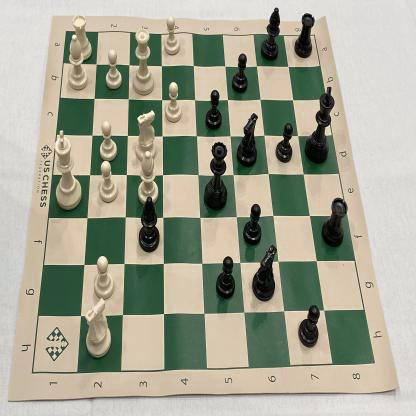black-bishop: (136, 194, 163, 254), (259, 4, 283, 66)
black-king: (302, 82, 336, 166)
black-knight: (250, 240, 278, 307), (235, 109, 260, 172)
black-pawn: (296, 300, 322, 350), (240, 199, 264, 247), (213, 255, 236, 301), (274, 121, 294, 166), (203, 88, 223, 131), (230, 48, 248, 94)
black-queen: (202, 138, 229, 214)
black-rook: (320, 192, 349, 254), (292, 9, 316, 63)
white-bishop: (134, 148, 160, 205), (66, 35, 90, 94)
white-king: (51, 128, 84, 212)
white-knight: (82, 297, 116, 361), (132, 108, 158, 161)
white-pawn: (92, 254, 116, 302), (96, 158, 121, 204), (160, 13, 182, 58), (96, 120, 118, 164), (163, 80, 184, 126), (103, 48, 124, 92)
white-queen: (132, 25, 156, 98)
white-rook: (70, 10, 93, 61)
